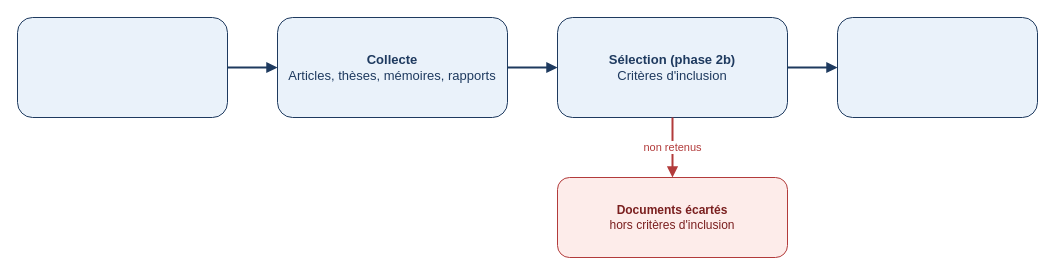
Some shapes in this 1055 by 275 pixel diagram are drawn without their labels. Each missing label, with the centre of its shape:
"Corpus retenu 35 documents scientifiques" goes at pixel 937 67.
"Recherche (phase 1) Google Scholar, PubMed, ResearchGate" goes at pixel 122 67.
